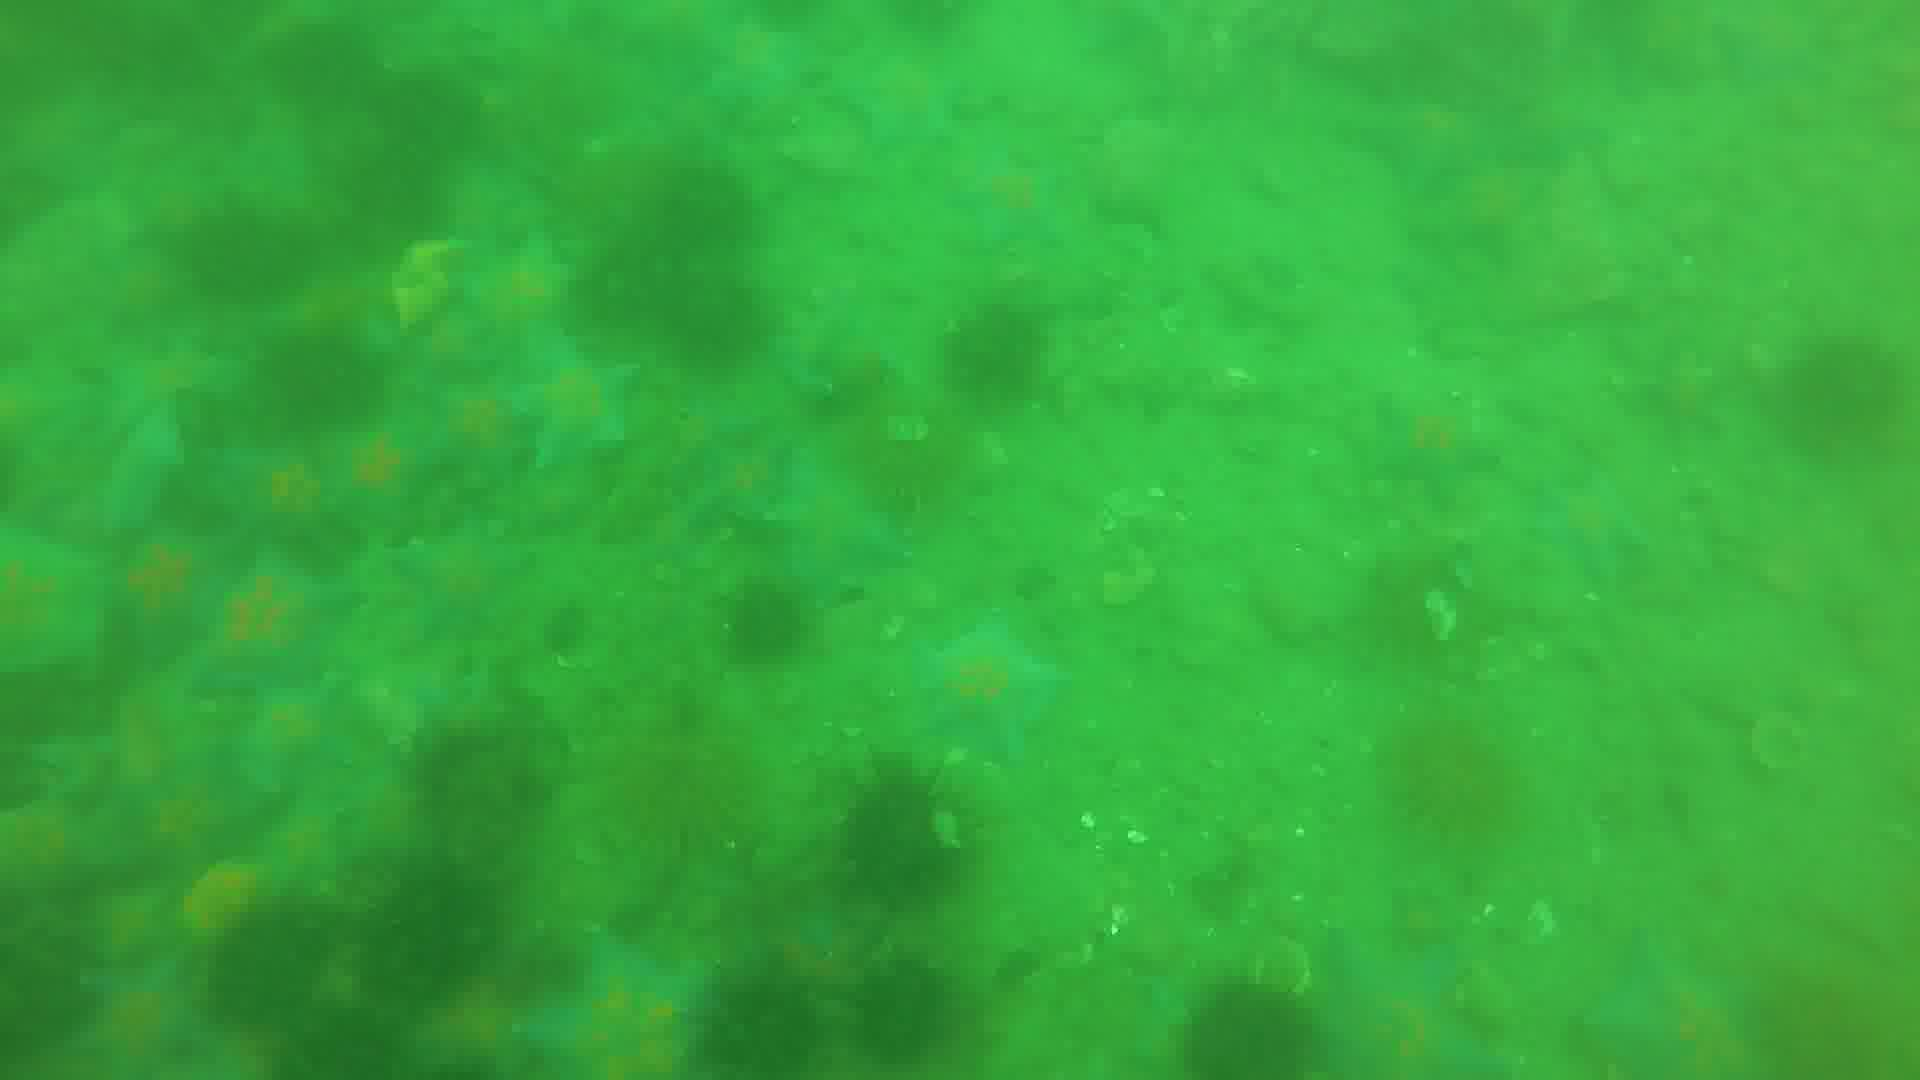echinus: (583, 713, 752, 884), (1385, 704, 1527, 866), (580, 243, 764, 349), (833, 781, 977, 897), (258, 297, 378, 413), (214, 901, 328, 1022), (1787, 343, 1911, 455), (167, 193, 297, 291), (363, 880, 480, 986), (1178, 982, 1305, 1080), (686, 976, 802, 1080), (262, 8, 376, 102), (949, 316, 1051, 419), (268, 1009, 407, 1080), (851, 967, 948, 1068), (665, 166, 748, 233), (731, 597, 804, 667)
scallop: (1747, 720, 1816, 779)
starfish: (497, 930, 715, 1080), (1307, 928, 1520, 1080), (177, 538, 368, 705), (1582, 938, 1772, 1080), (899, 615, 1058, 758), (742, 454, 906, 567), (1346, 87, 1505, 199), (501, 342, 638, 459), (702, 375, 815, 512), (71, 960, 200, 1080), (1352, 397, 1491, 500), (819, 34, 953, 137), (316, 426, 454, 525), (1535, 473, 1648, 588), (396, 513, 509, 626), (347, 641, 462, 750), (223, 434, 334, 534), (90, 405, 179, 521), (256, 688, 347, 791), (960, 146, 1056, 243)
